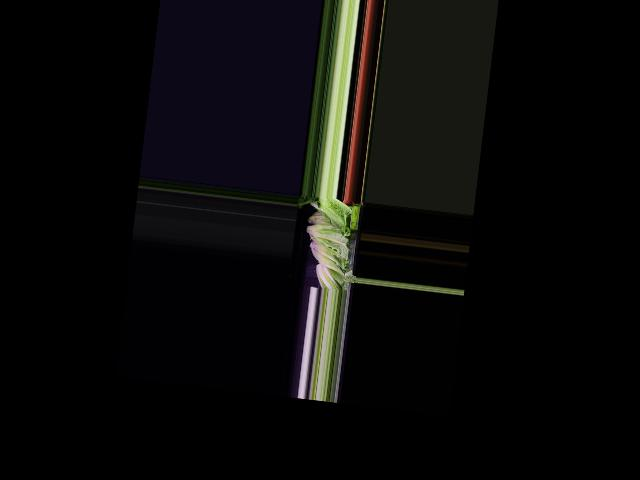lettuce: (312, 260, 344, 291)
